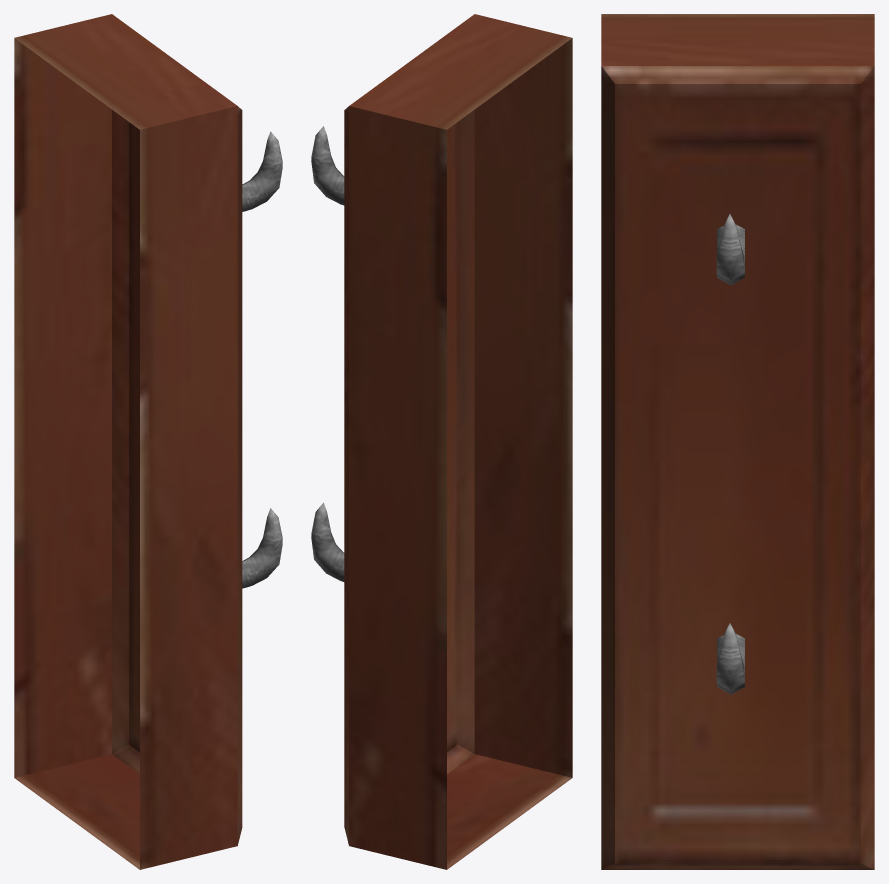
File: keyHolder.fbx
The picture shows the model from 3 angles, left to right: view 1: azimuth 30°, elevation 25°; view 2: azimuth 150°, elevation 25°; view 3: azimuth 270°, elevation 25°; orthographic projection. The views are drawn at different scales.
Parts seen in each view (by area): view 1: polySurface1945; view 2: polySurface1945; view 3: polySurface1945.
Boxes of the visible parts, left/top/right/bottom form: polySurface1945: left=14, top=14, right=282, bottom=869; polySurface1945: left=311, top=14, right=572, bottom=869; polySurface1945: left=601, top=14, right=874, bottom=869.
Size of the model in its own units: 12.05 by 42.17 by 12.98.
